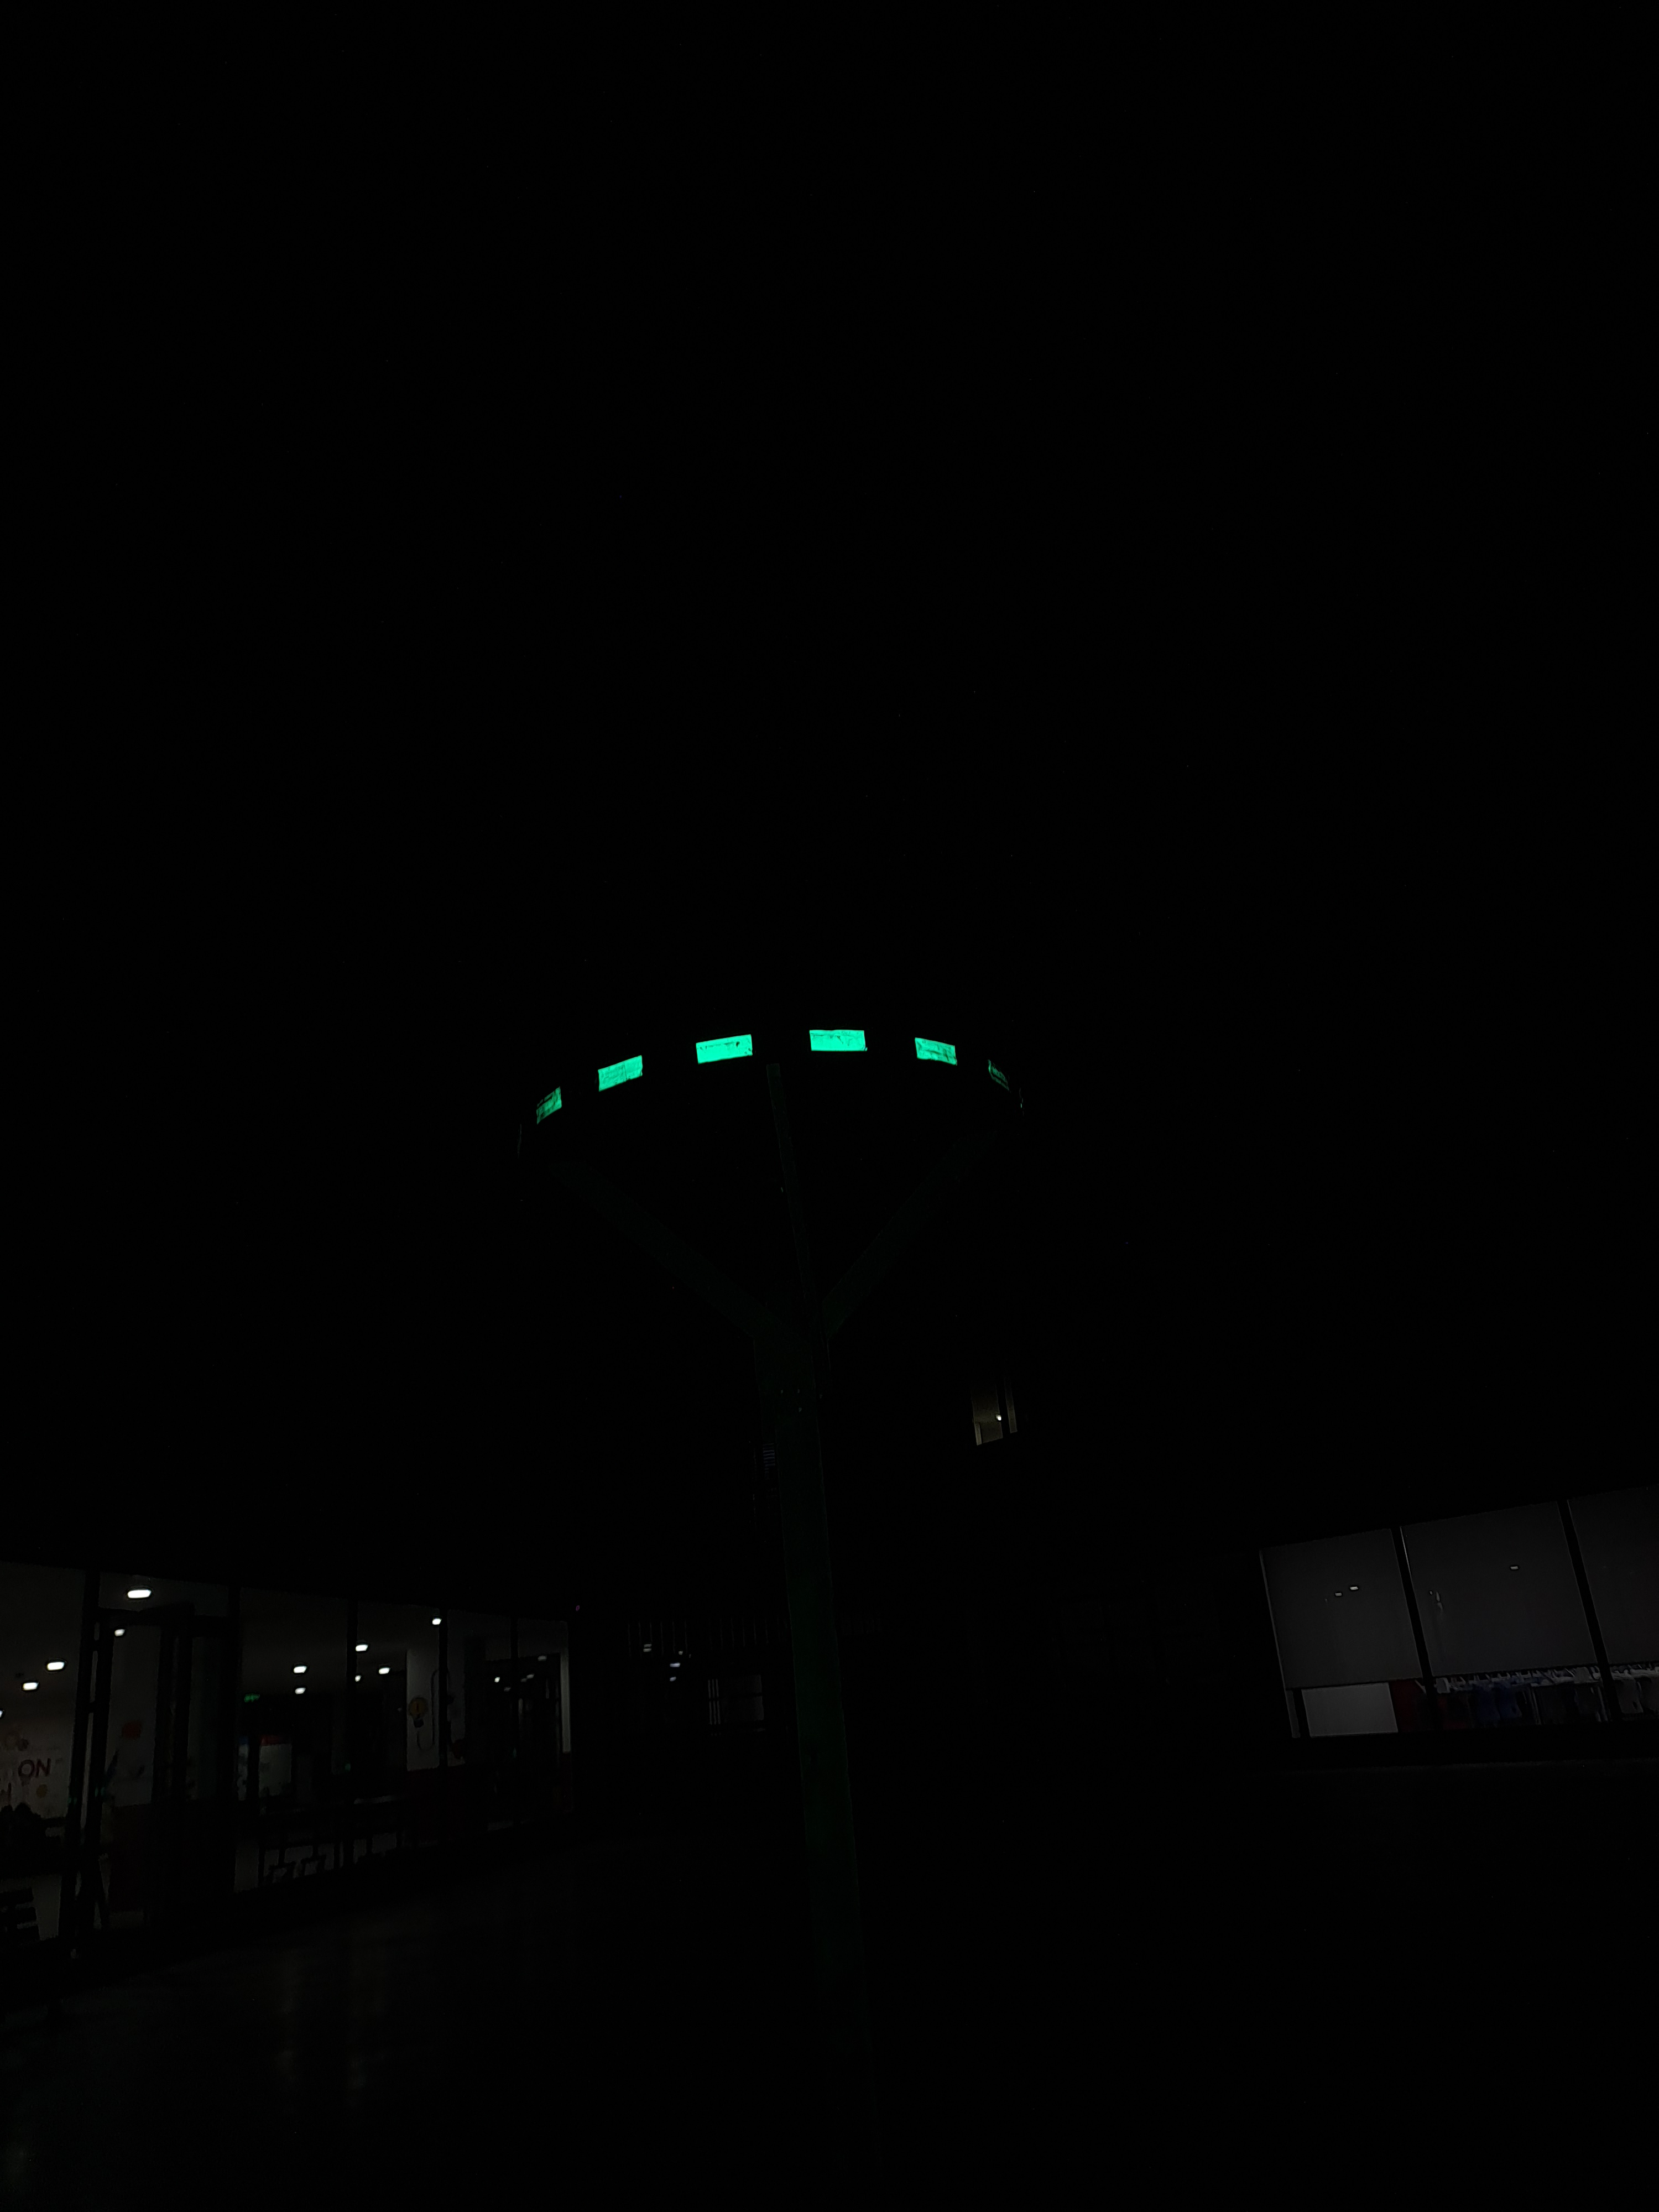hoop: (526, 1021, 962, 1132)
